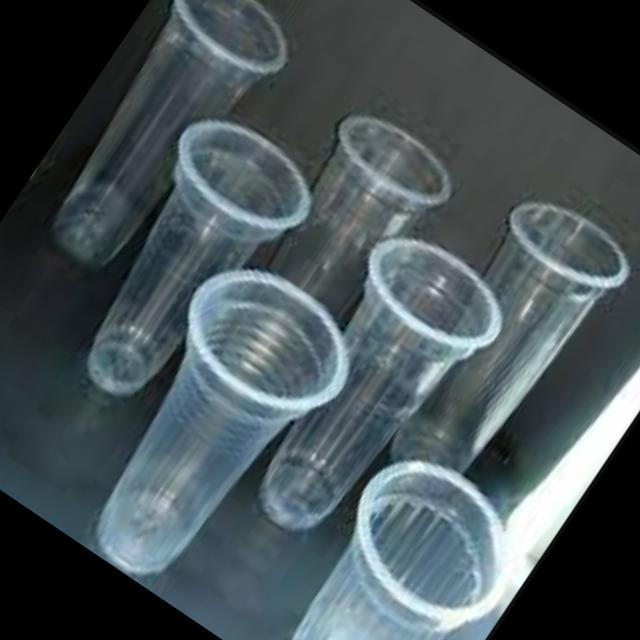GelasPlastik: (43, 241, 376, 610), (41, 90, 334, 432), (218, 220, 506, 560), (367, 165, 640, 497), (14, 0, 300, 294), (247, 438, 539, 640), (246, 82, 479, 335)
